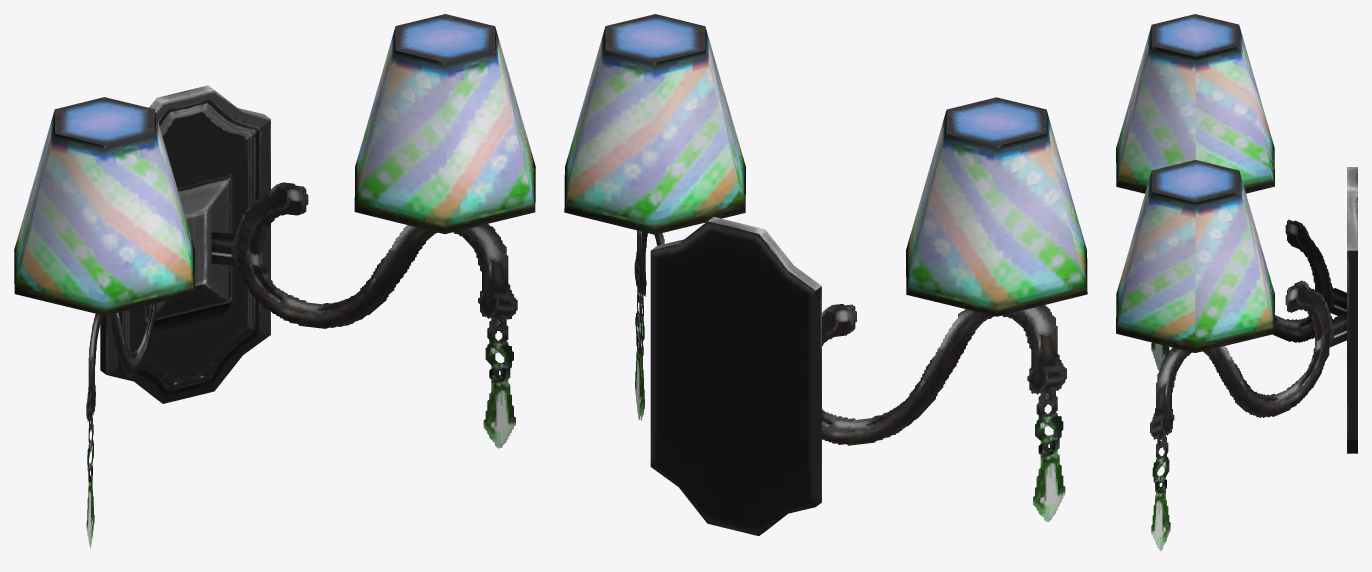
The model's file is furni_0200601_03.FBX.
3 views of the same model, side by side, from view 1: azimuth 30°, elevation 25°; view 2: azimuth 150°, elevation 25°; view 3: azimuth 270°, elevation 25° (orthographic). The views are drawn at different scales.
Parts seen in each view (by area): view 1: furni_0200601_03; view 2: furni_0200601_03; view 3: furni_0200601_03.
Boxes of the visible parts, <box> form: furni_0200601_03: <box>14,14,535,547</box>; furni_0200601_03: <box>564,14,1087,535</box>; furni_0200601_03: <box>1116,14,1357,551</box>.
Bounding box in the file's own units: 72.8 × 54.18 × 33.34.
Materials: 1 (1 with a texture image).
